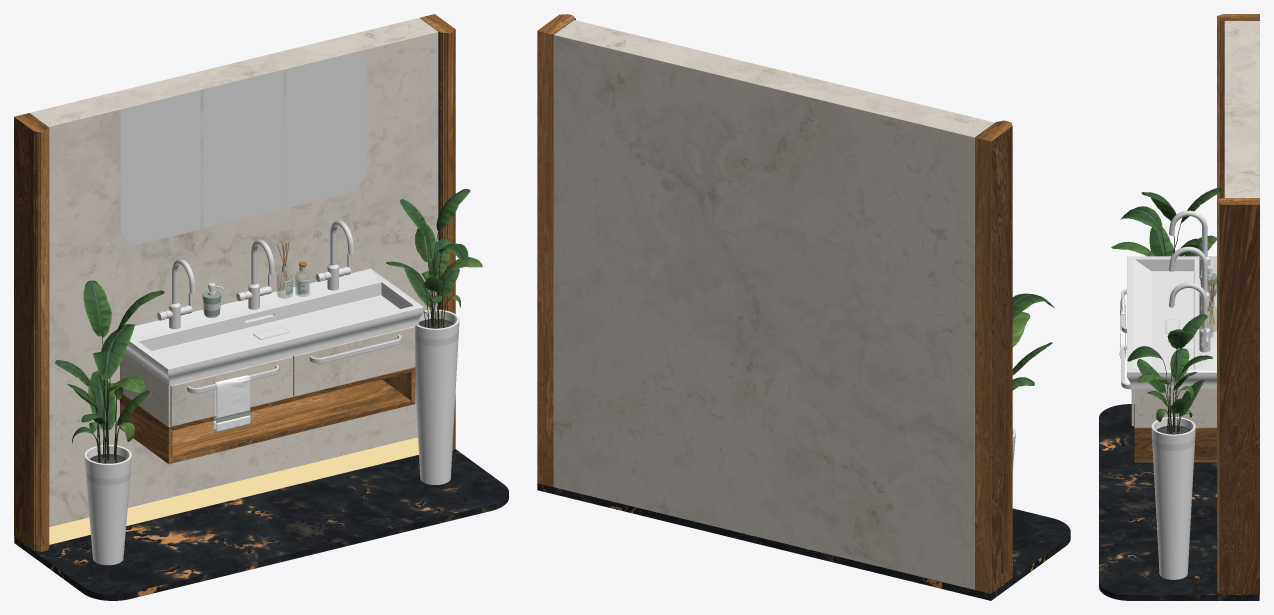
The model's file is BathRoom_2.gltf.
The picture shows the model from 3 angles, left to right: view 1: azimuth 30°, elevation 25°; view 2: azimuth 150°, elevation 25°; view 3: azimuth 270°, elevation 25°; orthographic projection. The views are drawn at different scales.
Visible parts, largest first — view 1: Wall, Sink, Ground, Mirror_02, Mirror_01, Mirror_03, Plant_Pot_01, Plant_02, Plant_Pot_02, Plant_01, Towel, WaterTap_01 (+2 smaller); view 2: Wall, Ground, Plant_02; view 3: Wall, Ground, Sink, Plant_Pot_01, Plant_01, Plant_02, WaterTap_01, WaterTap_02, WaterTap_03, SoapDispenser.
Part boxes in pixels (x1,y1,x2,y2): Wall: [14, 14, 455, 551]; Sink: [120, 268, 423, 463]; Ground: [14, 449, 508, 600]; Mirror_02: [203, 70, 283, 228]; Mirror_01: [120, 90, 200, 244]; Mirror_03: [286, 49, 366, 208]; Plant_Pot_01: [415, 309, 459, 484]; Plant_02: [55, 280, 164, 463]; Plant_Pot_02: [84, 444, 131, 565]; Plant_01: [386, 189, 482, 328]; Towel: [213, 375, 250, 432]; WaterTap_01: [315, 220, 353, 290]; Wall: [537, 14, 1012, 593]; Ground: [537, 483, 1070, 600]; Plant_02: [1012, 293, 1054, 390]; Wall: [1217, 14, 1259, 594]; Ground: [1099, 404, 1259, 600]; Sink: [1121, 256, 1216, 462]; Plant_Pot_01: [1151, 417, 1195, 579]; Plant_01: [1127, 314, 1212, 434]; Plant_02: [1111, 188, 1220, 256]; WaterTap_01: [1169, 282, 1210, 352]; WaterTap_02: [1169, 246, 1210, 315]; WaterTap_03: [1169, 210, 1210, 278]; SoapDispenser: [1200, 265, 1216, 296].
Size of the model in its own units: 2.02 by 1.94 by 0.7138.
